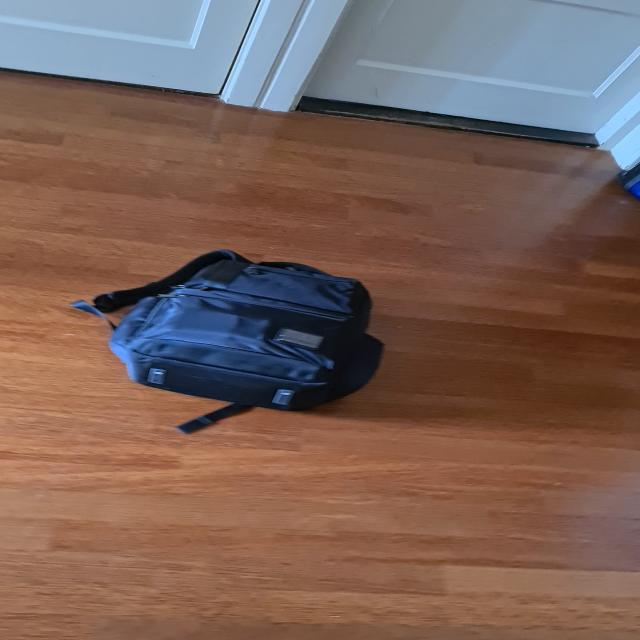backpack: (75, 246, 396, 434)
